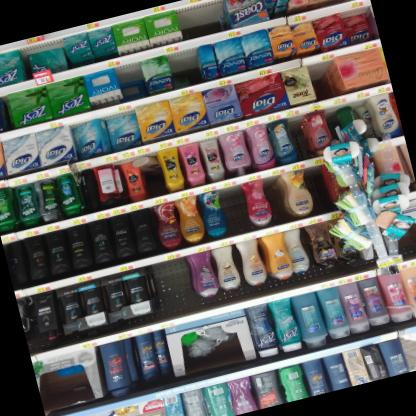empty_space: (152, 255, 194, 310), (179, 0, 223, 38), (219, 183, 247, 233), (305, 162, 331, 208), (168, 46, 197, 86), (261, 172, 281, 215), (309, 60, 332, 96)
